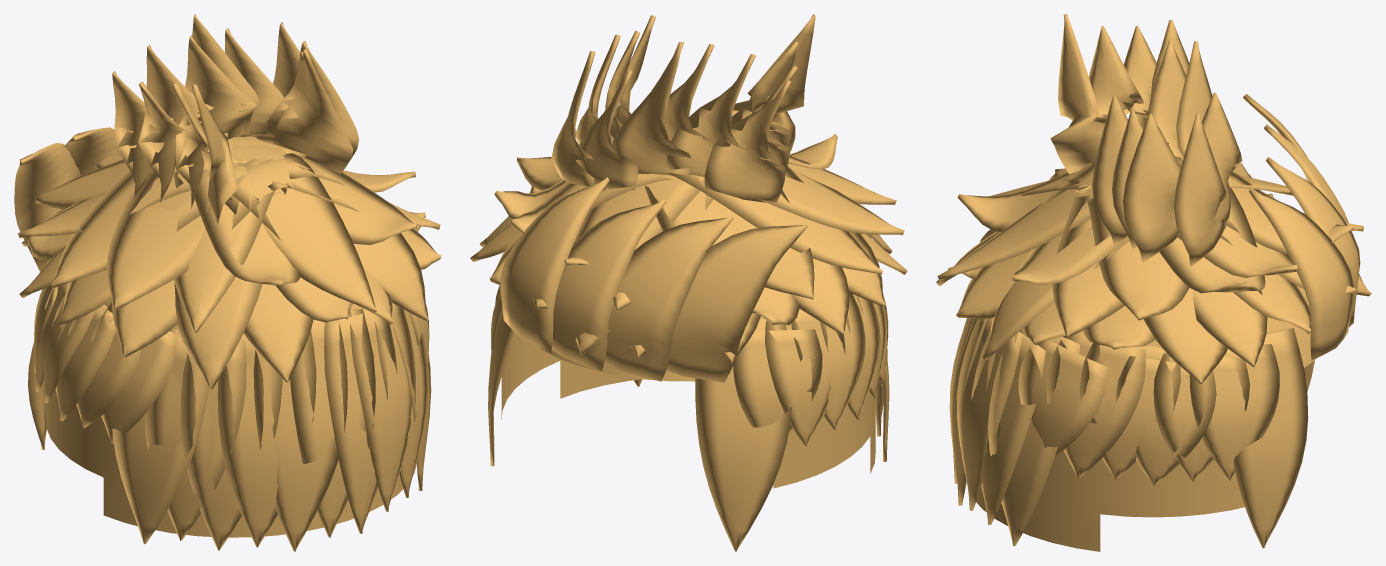
The model's file is ignis_hair.fbx.
3 renders of one model, left to right at view 1: azimuth 30°, elevation 25°; view 2: azimuth 150°, elevation 25°; view 3: azimuth 270°, elevation 25°, orthographic.
Parts seen in each view (by area): view 1: IgnisHair; view 2: IgnisHair; view 3: IgnisHair.
Boxes of the visible parts, x1,y1,x2,y2 form: IgnisHair: [14, 14, 441, 551]; IgnisHair: [470, 14, 907, 551]; IgnisHair: [936, 14, 1371, 551].
Bounding box in the file's own units: 159 × 183 × 163.
